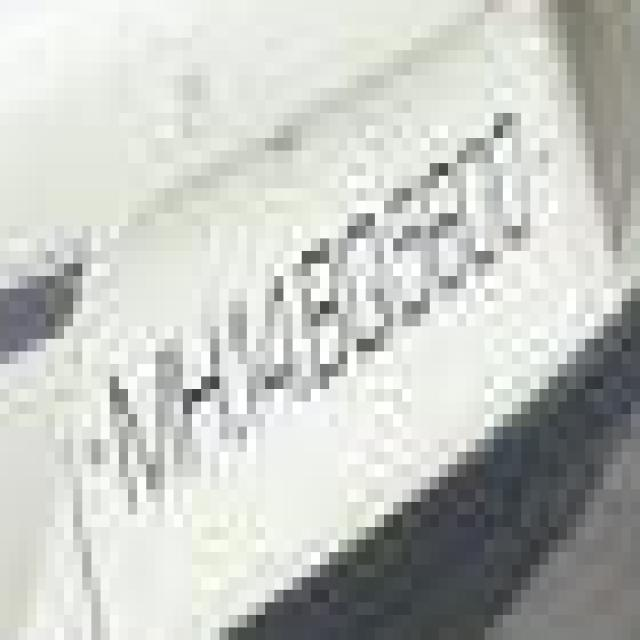license_plate: (18, 138, 640, 502)
